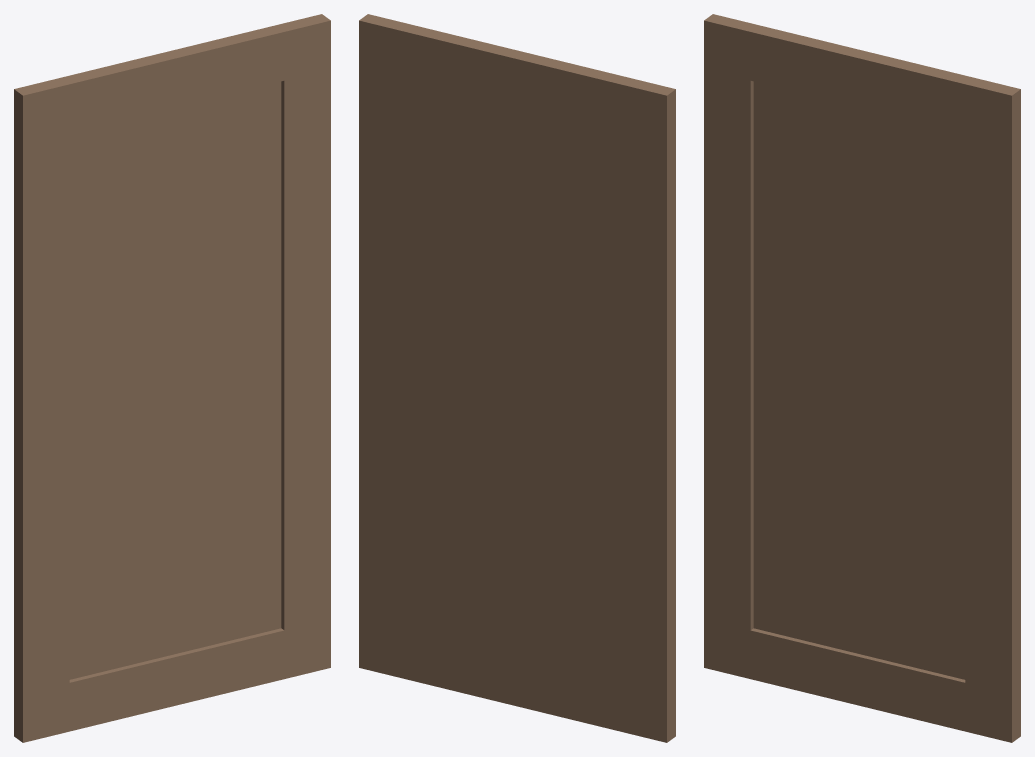
File: door_14.obj
3 views of the same model, side by side, from view 1: azimuth 30°, elevation 25°; view 2: azimuth 150°, elevation 25°; view 3: azimuth 330°, elevation 25° (orthographic).
Parts seen in each view (by area): view 1: door_14; view 2: door_14; view 3: door_14.
Part boxes in pixels (x1=…): door_14: x1=14, y1=14, x2=330, y2=742; door_14: x1=359, y1=14, x2=675, y2=742; door_14: x1=704, y1=14, x2=1020, y2=742.
Size of the model in its own units: 378 by 759 by 19.05.
